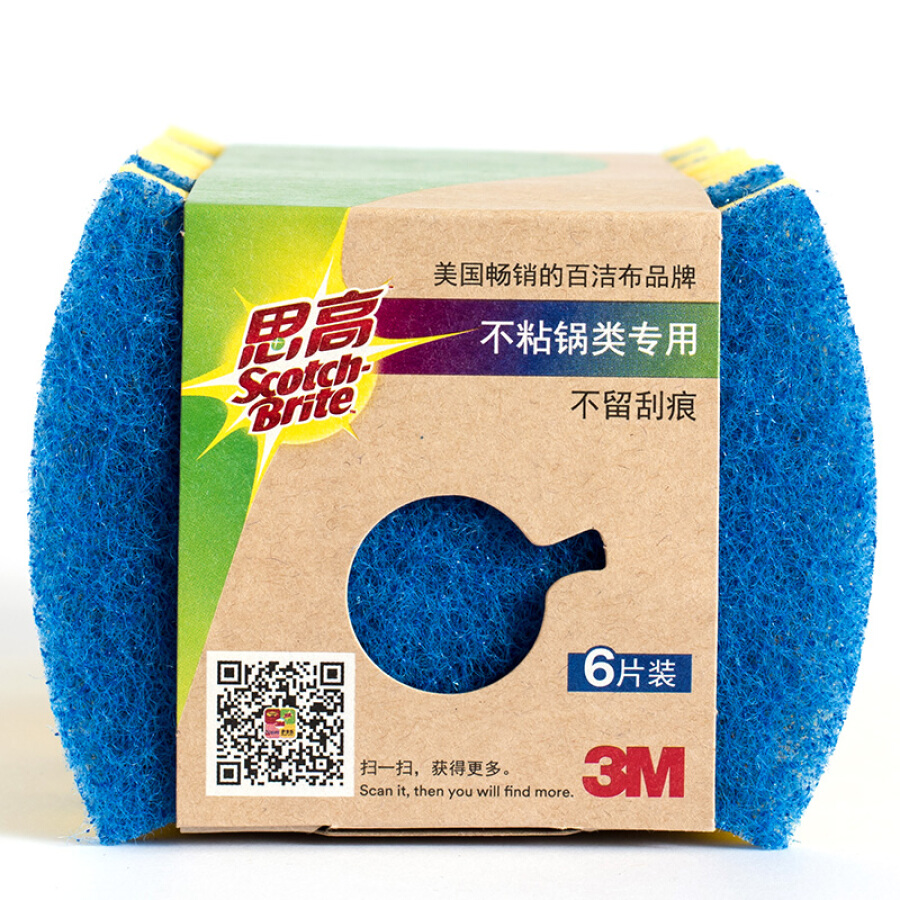3M: (572, 729, 692, 806)
